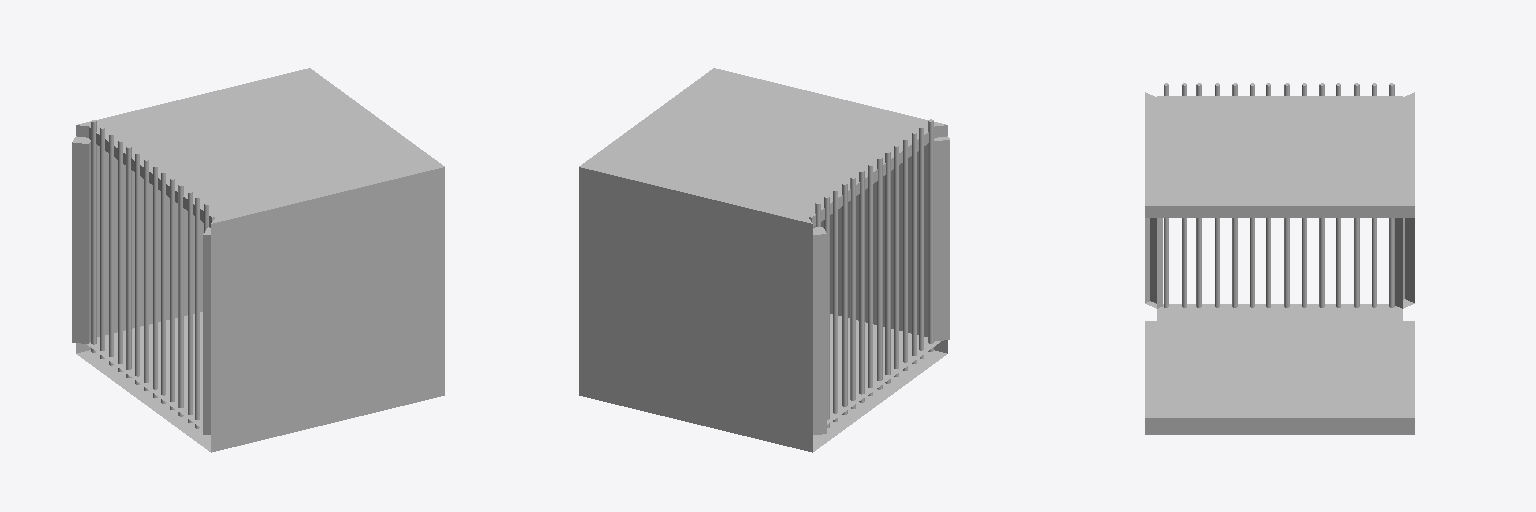
Rendered from prison_cells.obj.
The picture shows the model from 3 angles: view 1: azimuth 30°, elevation 25°; view 2: azimuth 150°, elevation 25°; view 3: azimuth 270°, elevation 25°; orthographic projection.
Parts seen in each view (by area): view 1: Cube_Cube.001, Cylinder.013; view 2: Cube_Cube.001, Cylinder.013; view 3: Cube_Cube.001, Cylinder.013.
Part boxes in pixels (x1,y1,x2,y2): Cube_Cube.001: (72, 68, 444, 452); Cylinder.013: (91, 120, 208, 428); Cube_Cube.001: (579, 68, 949, 452); Cylinder.013: (815, 119, 933, 427); Cube_Cube.001: (1145, 92, 1414, 434); Cylinder.013: (1164, 83, 1394, 307).
Size of the model in its own units: 2.08 by 1.95 by 2.